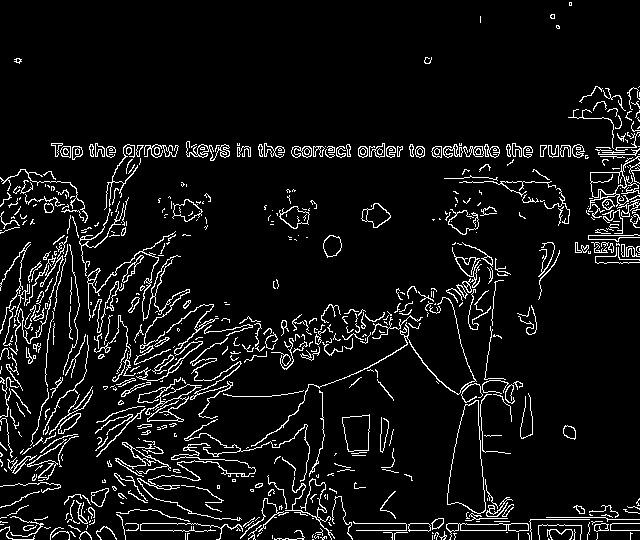rune_box: (113, 169, 529, 266)
